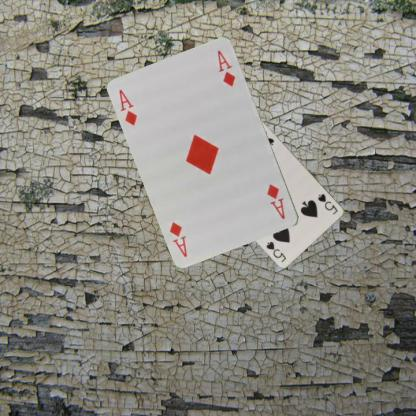5s: (316, 191, 339, 216)
Ad: (264, 181, 287, 221), (116, 87, 139, 127)
